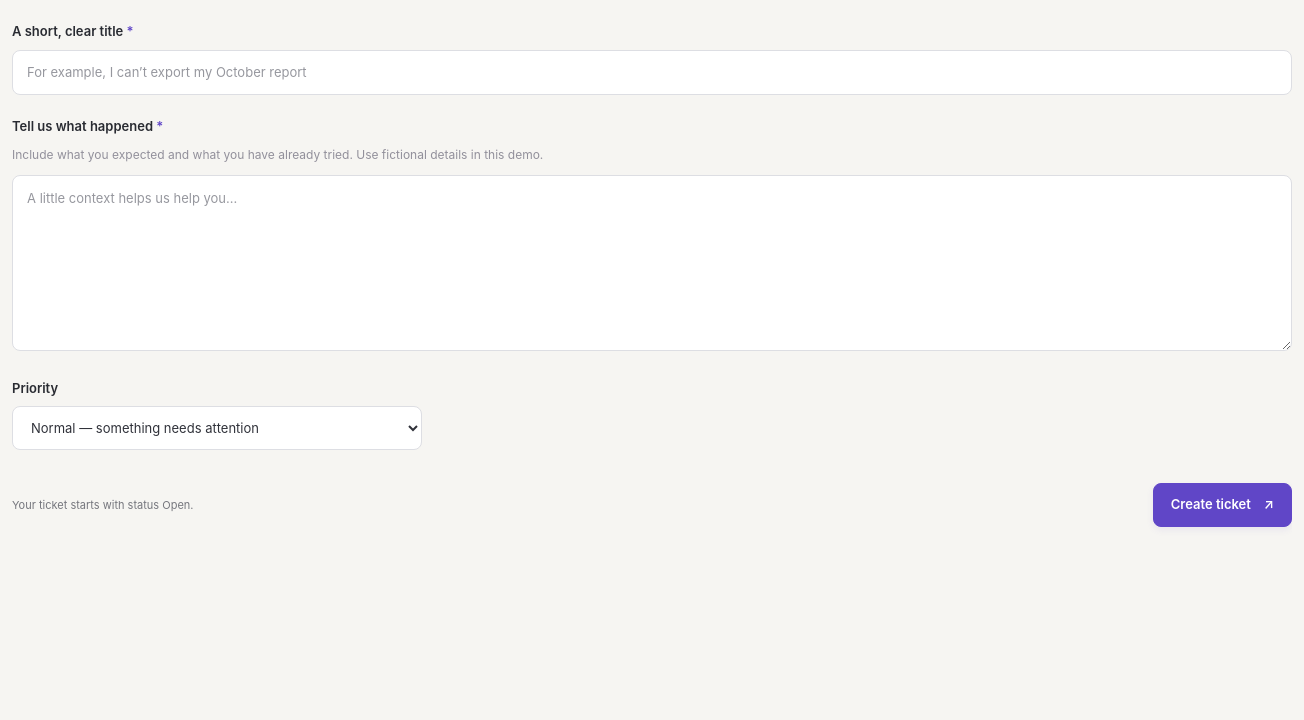
Test: blocks empty or too-short ticket fields
Click the button "Create ticket ↗": click(1222, 505) left=1153, top=484, right=1292, bottom=527
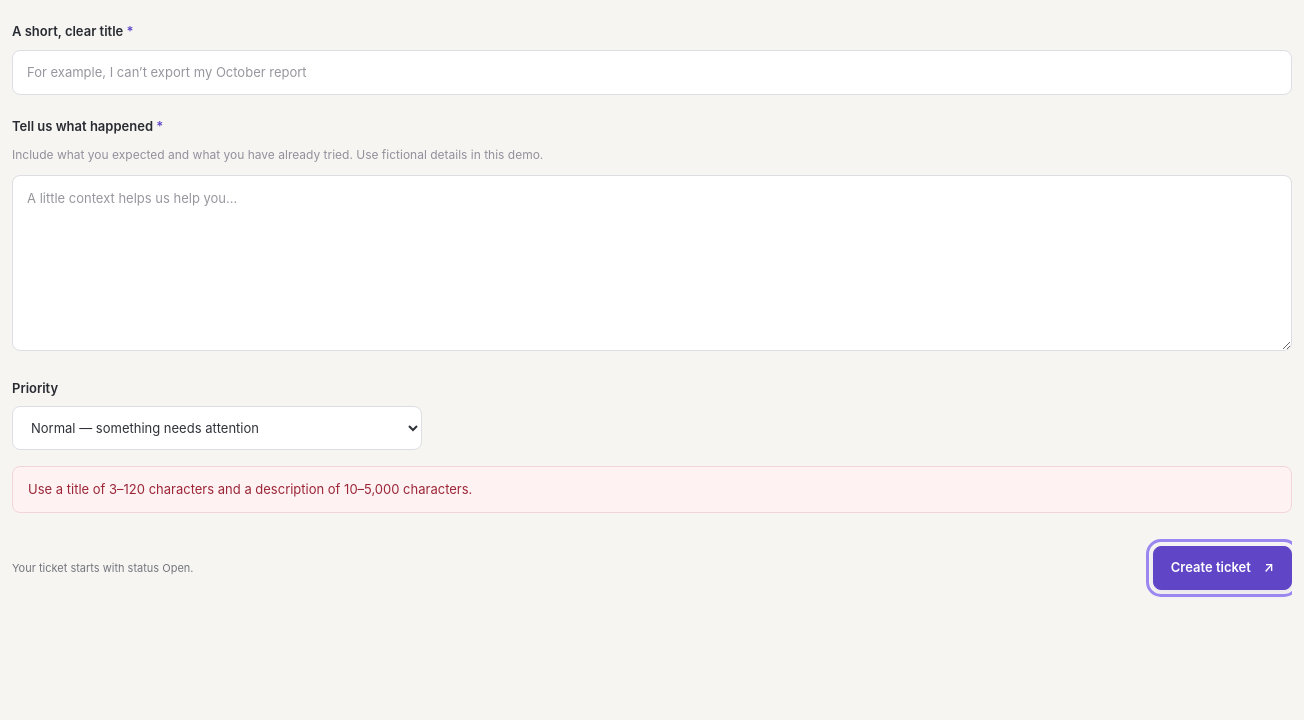
Now the message shows "3–120 characters", box left=28, top=482, right=472, bottom=498
